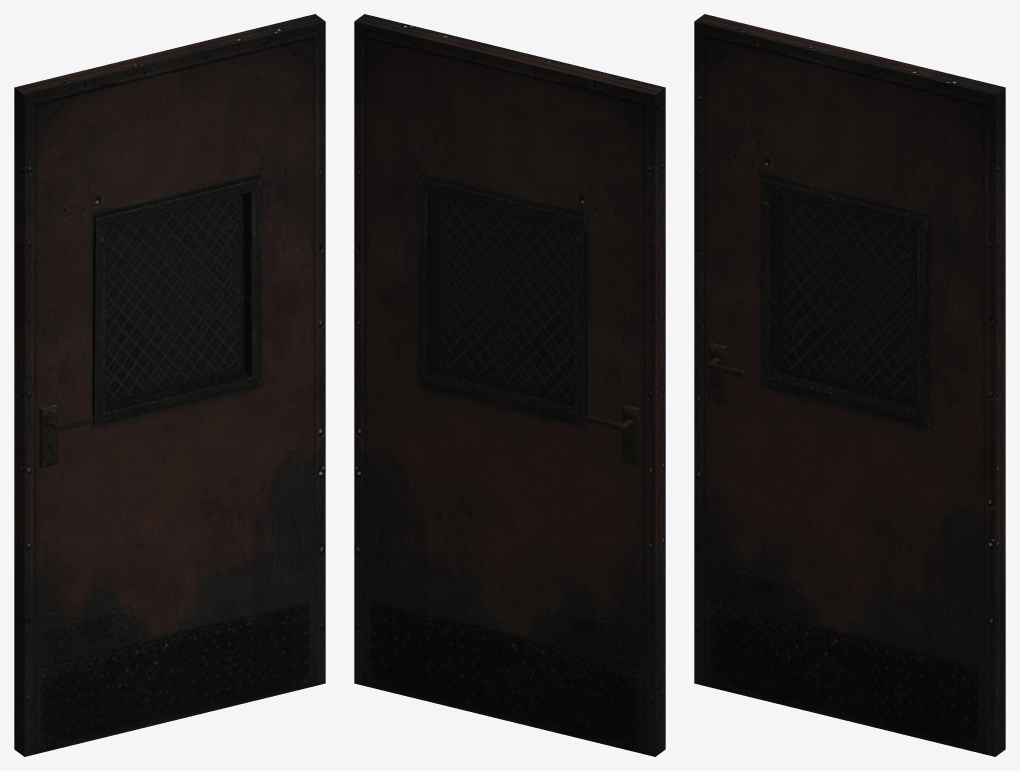
File: door_4.obj
3 renders of one model, left to right at view 1: azimuth 30°, elevation 25°; view 2: azimuth 150°, elevation 25°; view 3: azimuth 330°, elevation 25°, orthographic.
Visible parts, largest first — view 1: door_4; view 2: door_4; view 3: door_4.
Part boxes in pixels (x1=…): door_4: x1=14, y1=14, x2=325, y2=756; door_4: x1=354, y1=14, x2=665, y2=756; door_4: x1=694, y1=14, x2=1005, y2=756.
Bounding box in the file's own units: 1 × 2.1 × 0.178.
